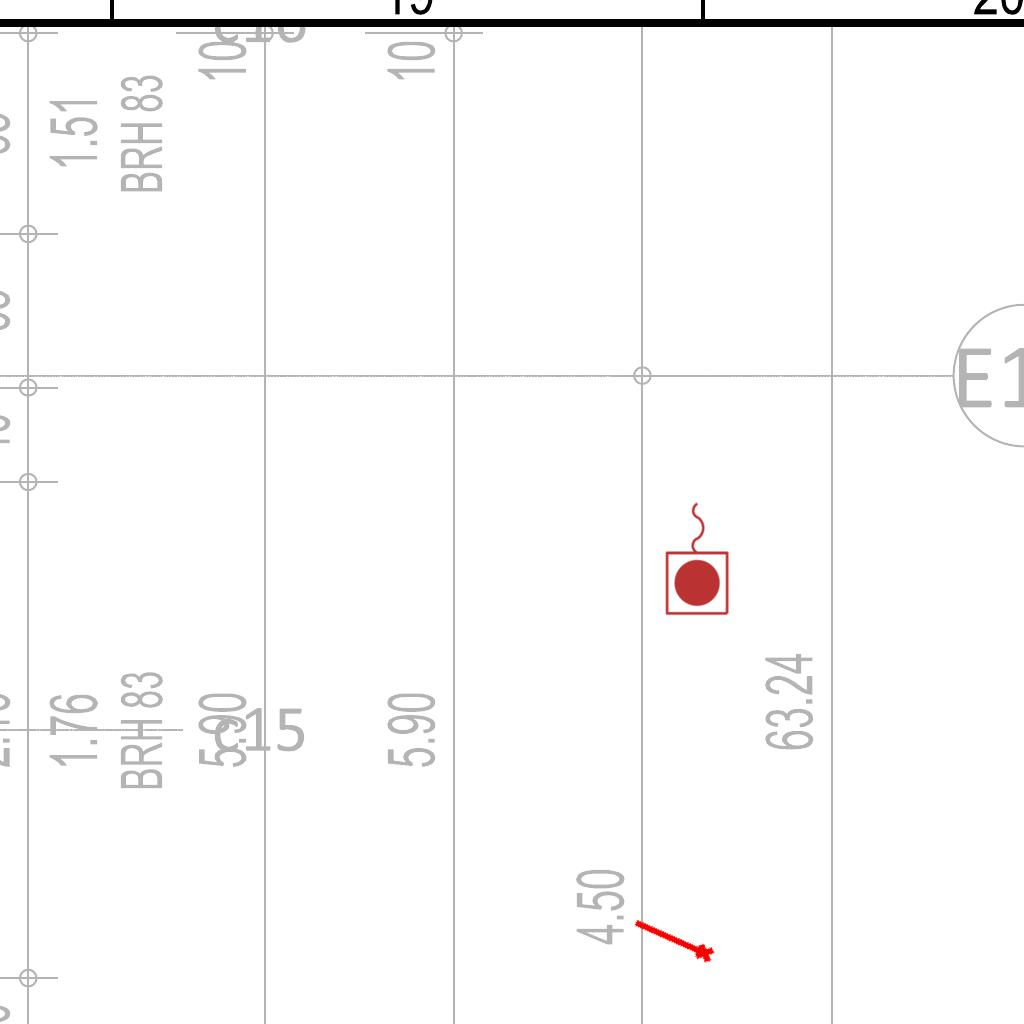ASR_Ansaugoeffnung: (628, 912, 718, 969)
Zugtaster: (662, 497, 734, 619)
